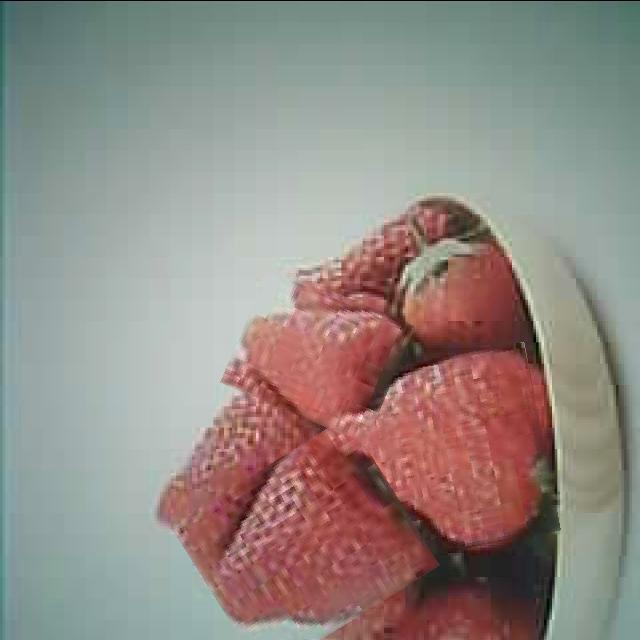strawberry: (186, 437, 425, 640), (347, 350, 553, 558), (230, 278, 406, 432)
